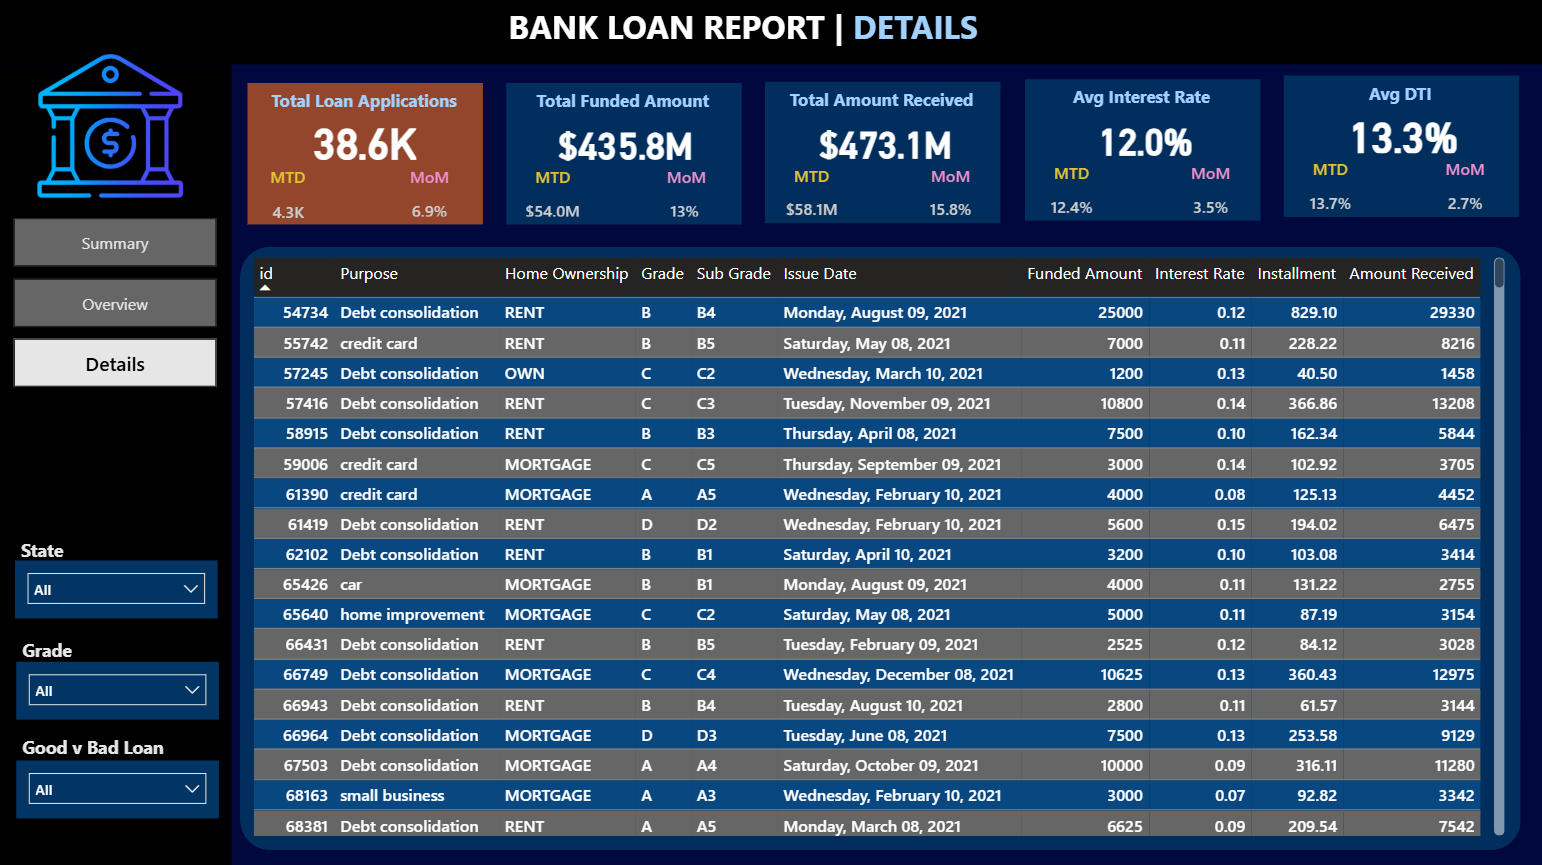

The dashboard page shown, as its layout file describes it:
{"tool":"powerbi","page":{"name":"Details","canvas":[1280,720],"ordinal":2},"visuals":[{"type":"shape","box":[198.8,206.6,1061.9,500.3],"z":0},{"type":"shape","box":[0,0,1280.3,55],"z":1000},{"type":"shape","box":[0,55.3,192,665.2],"z":2000},{"type":"shape","box":[1065,64.8,195.4,117.2],"z":2000,"group":"g3"},{"type":"shape","box":[850,67,195.4,117.2],"z":2000,"group":"g5"},{"type":"shape","box":[635,69.2,195.4,117.2],"z":2000,"group":"g4"},{"type":"shape","box":[420.2,70,195.4,117.2],"z":2000,"group":"g2"},{"type":"shape","box":[205.5,70.3,195.4,117.2],"z":2000,"group":"g1"},{"type":"textbox","box":[416.5,0,447.8,52.5],"z":3000},{"type":"group","id":"g1","title":"Group 1","box":[201,70.3,199.9,124.7],"z":4000},{"type":"cardVisual","fields":{"Data":["bank_loan_data.Average DTI"]},"box":[1075.4,84.8,177.9,62.9],"z":4000,"group":"g3"},{"type":"cardVisual","fields":{"Data":["bank_loan_data.Total Loan Application"]},"box":[230,85.9,145.2,67],"z":4000,"group":"g1"},{"type":"cardVisual","fields":{"Data":["bank_loan_data.Average Interest Rate"]},"box":[857.1,87,185,62.9],"z":4000,"group":"g5"},{"type":"cardVisual","fields":{"Data":["bank_loan_data.Total Amount Received"]},"box":[642.1,89.2,185,62.9],"z":4000,"group":"g4"},{"type":"cardVisual","fields":{"Data":["bank_loan_data.Total Funded Amount"]},"box":[430.6,90,177.9,62.9],"z":4000,"group":"g2"},{"type":"textbox","box":[1065,64.8,193.2,31.3],"z":5000,"group":"g3"},{"type":"textbox","box":[850,67,193.2,31.3],"z":5000,"group":"g5"},{"type":"textbox","box":[635,69.2,193.2,31.3],"z":5000,"group":"g4"},{"type":"textbox","box":[420.2,70,193.2,31.3],"z":5000,"group":"g2"},{"type":"textbox","box":[205.5,70.3,193.2,31.3],"z":5000,"group":"g1"},{"type":"textbox","box":[12.2,442.3,54.4,31.1],"z":5000},{"type":"group","id":"g2","title":"Group 1","box":[411.5,70,204.1,123],"z":6000},{"type":"cardVisual","title":"MTD","fields":{"Data":["bank_loan_data.MTD Average DTI"]},"box":[1056.3,132.8,94,55],"z":6000,"group":"g3"},{"type":"cardVisual","title":"MTD","fields":{"Data":["bank_loan_data.MTD Average Interest Rate"]},"box":[841.3,135.8,94,55],"z":6000,"group":"g5"},{"type":"cardVisual","title":"MTD","fields":{"Data":["bank_loan_data.MTD Amount Received"]},"box":[626.3,137.2,94,55],"z":6000,"group":"g4"},{"type":"cardVisual","title":"MTD","fields":{"Data":["bank_loan_data.MTD Funded Amount"]},"box":[411.5,138,94,55],"z":6000,"group":"g2"},{"type":"cardVisual","title":"MTD","fields":{"Data":["bank_loan_data.MTD Loan Applications"]},"box":[201,139,75.5,56],"z":6000,"group":"g1"},{"type":"group","id":"g3","title":"Group 1","box":[1056.3,64.8,203.2,122.8],"z":7000},{"type":"cardVisual","title":"MoM","fields":{"Data":["bank_loan_data.MoM Average DTI"]},"box":[1176.5,132.8,77,55],"z":7000,"group":"g3"},{"type":"cardVisual","title":"MoM","fields":{"Data":["bank_loan_data.MoM Average Interest Rate"]},"box":[961.5,135.8,84,55],"z":7000,"group":"g5"},{"type":"cardVisual","title":"MoM","fields":{"Data":["bank_loan_data.MoM Amount Received"]},"box":[746.5,137.2,84,55],"z":7000,"group":"g4"},{"type":"cardVisual","title":"MoM","fields":{"Data":["bank_loan_data.MoM Funded Amount"]},"box":[531.7,138,75,55],"z":7000,"group":"g2"},{"type":"cardVisual","title":"MoM","fields":{"Data":["bank_loan_data.MoM Loan Applications"]},"box":[317,139,78,55],"z":7000,"group":"g1"},{"type":"group","id":"g4","title":"Group 1","box":[626.3,69.2,204.3,122.8],"z":8000},{"type":"group","id":"g5","title":"Group 1","box":[841.3,67,204.3,123.9],"z":9000},{"type":"slicer","fields":{"Values":["bank_loan_data.address_state"]},"box":[12.1,466.7,167.9,47.9],"z":10000},{"type":"slicer","fields":{"Values":["bank_loan_data.grade"]},"box":[13.6,550.7,167.9,47.9],"z":11000},{"type":"textbox","box":[13.3,525.7,68.9,31.1],"z":12000},{"type":"slicer","fields":{"Values":["bank_loan_data.Good v Bad Loan"]},"box":[13.3,632.3,167.9,47.9],"z":13000},{"type":"textbox","box":[13.4,606.3,128.4,31.3],"z":14000},{"type":"tableEx","fields":{"Values":["bank_loan_data.id","bank_loan_data.purpose","bank_loan_data.home_ownership","bank_loan_data.grade","bank_loan_data.sub_grade","bank_loan_data.issue_date","bank_loan_data.Total Funded Amount","Sum(bank_loan_data.int_rate)","Sum(bank_loan_data.installment)","bank_loan_data.Total Amount Received"]},"box":[204.3,209.9,1048.5,489.1],"z":17000},{"type":"pageNavigator","box":[11.1,182.2,168.9,141.1],"z":17001},{"type":"image","box":[0,32.2,180,150],"z":17002}]}

Visuals, with their boxes in screenshot pixels (x1, y1, x2, y2), scaled from the page's 1280x720 canvas onto the 1542x865 screenshot:
shape: <bbox>239, 248, 1519, 849</bbox>
shape: <bbox>0, 0, 1541, 66</bbox>
shape: <bbox>0, 66, 231, 864</bbox>
shape: <bbox>1283, 78, 1518, 219</bbox>
shape: <bbox>1024, 80, 1259, 221</bbox>
shape: <bbox>765, 83, 1000, 224</bbox>
shape: <bbox>506, 84, 742, 225</bbox>
shape: <bbox>248, 84, 483, 225</bbox>
textbox: <bbox>502, 0, 1041, 63</bbox>
"Group 1" group: <bbox>242, 84, 483, 234</bbox>
cardVisual - bank_loan_data.Average DTI: <bbox>1296, 102, 1510, 177</bbox>
cardVisual - bank_loan_data.Total Loan Application: <bbox>277, 103, 452, 184</bbox>
cardVisual - bank_loan_data.Average Interest Rate: <bbox>1033, 105, 1255, 180</bbox>
cardVisual - bank_loan_data.Total Amount Received: <bbox>774, 107, 996, 183</bbox>
cardVisual - bank_loan_data.Total Funded Amount: <bbox>519, 108, 733, 184</bbox>
textbox: <bbox>1283, 78, 1516, 115</bbox>
textbox: <bbox>1024, 80, 1257, 118</bbox>
textbox: <bbox>765, 83, 998, 121</bbox>
textbox: <bbox>506, 84, 739, 122</bbox>
textbox: <bbox>248, 84, 480, 122</bbox>
textbox: <bbox>15, 531, 80, 569</bbox>
"Group 1" group: <bbox>496, 84, 742, 232</bbox>
"MTD" cardVisual: <bbox>1273, 160, 1386, 226</bbox>
"MTD" cardVisual: <bbox>1014, 163, 1127, 229</bbox>
"MTD" cardVisual: <bbox>754, 165, 868, 231</bbox>
"MTD" cardVisual: <bbox>496, 166, 609, 232</bbox>
"MTD" cardVisual: <bbox>242, 167, 333, 234</bbox>
"Group 1" group: <bbox>1273, 78, 1517, 225</bbox>
"MoM" cardVisual: <bbox>1417, 160, 1510, 226</bbox>
"MoM" cardVisual: <bbox>1158, 163, 1260, 229</bbox>
"MoM" cardVisual: <bbox>899, 165, 1000, 231</bbox>
"MoM" cardVisual: <bbox>641, 166, 731, 232</bbox>
"MoM" cardVisual: <bbox>382, 167, 476, 233</bbox>
"Group 1" group: <bbox>754, 83, 1001, 231</bbox>
"Group 1" group: <bbox>1014, 80, 1260, 229</bbox>
slicer - bank_loan_data.address_state: <bbox>15, 561, 217, 618</bbox>
slicer - bank_loan_data.grade: <bbox>16, 662, 219, 719</bbox>
textbox: <bbox>16, 632, 99, 669</bbox>
slicer - bank_loan_data.Good v Bad Loan: <bbox>16, 760, 218, 817</bbox>
textbox: <bbox>16, 728, 171, 766</bbox>
tableEx - bank_loan_data.id x bank_loan_data.purpose: <bbox>246, 252, 1509, 840</bbox>
pageNavigator: <bbox>13, 219, 217, 388</bbox>
image: <bbox>0, 39, 217, 219</bbox>
